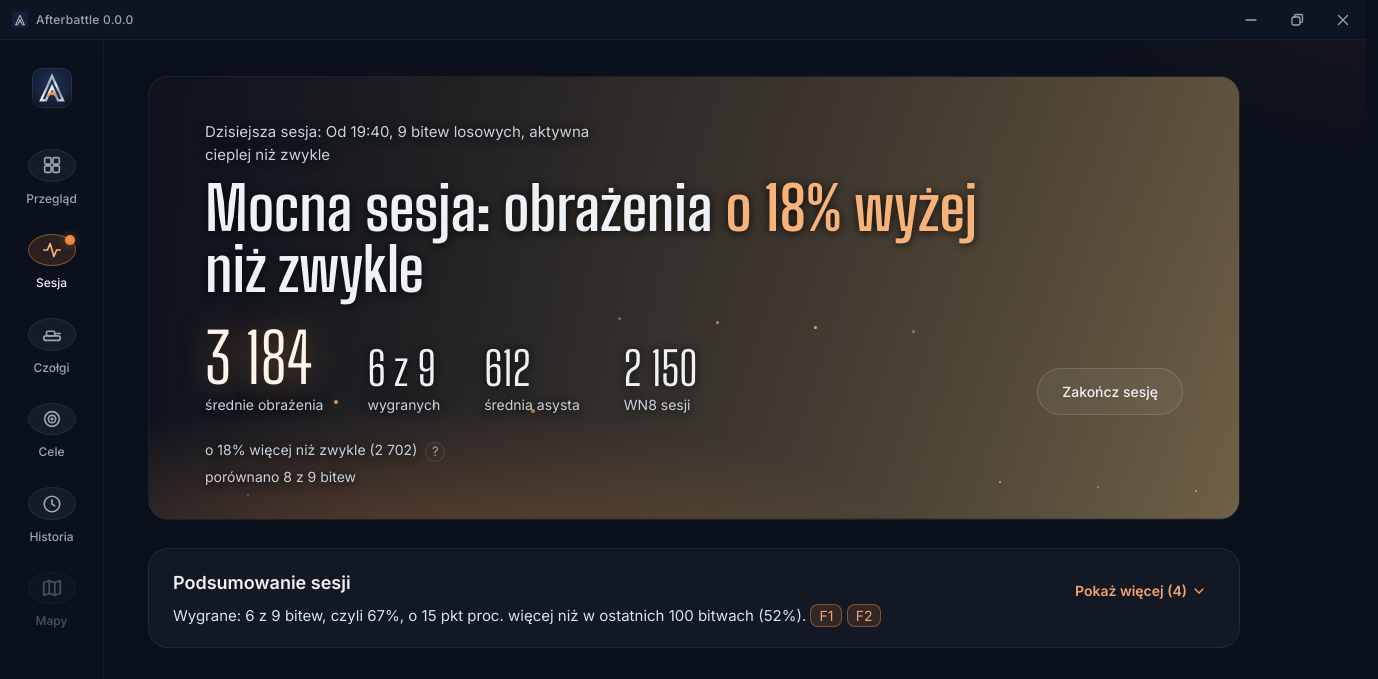
Tanks screen › reads the damage chart from the trend's own battles, by keyboard
This screenshot has width=1378, height=679.
Click the button "Czołgi": (52, 348) [20,317,84,378]
(page scrolled)
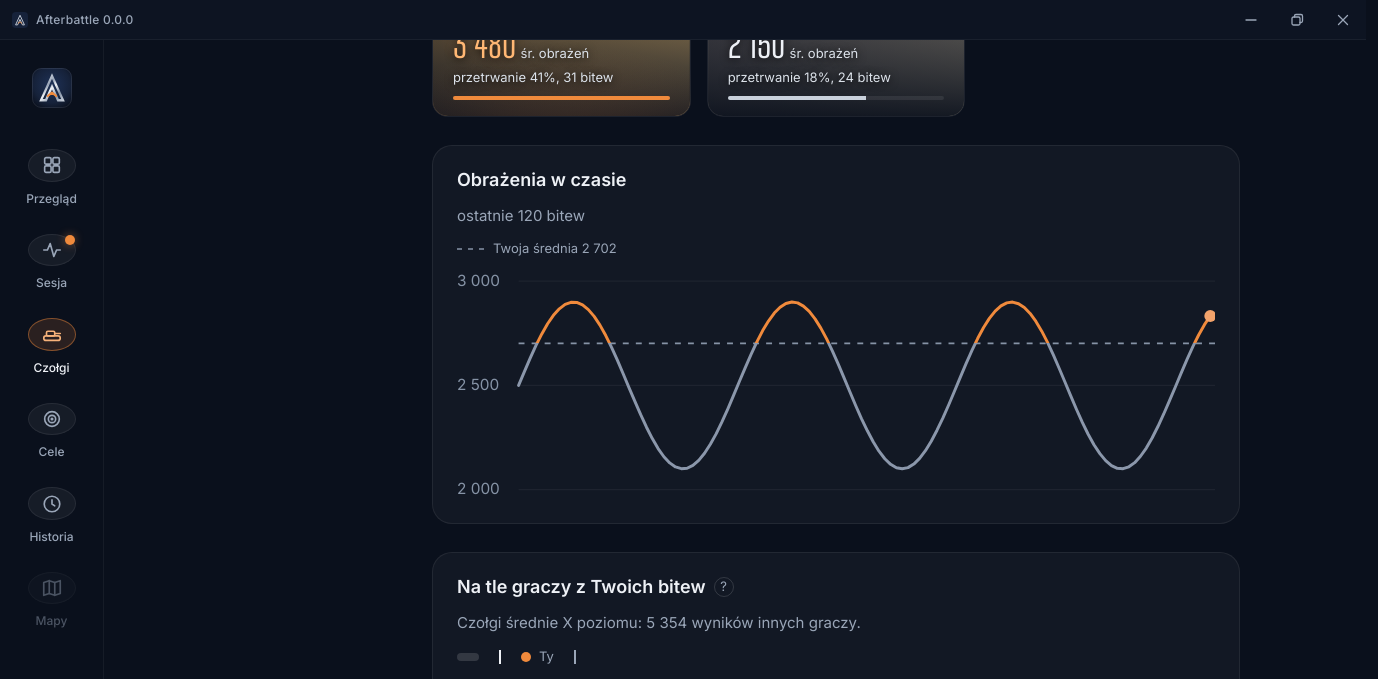
Press End in the element with class "chart-plot", box [457,266,1215,503]
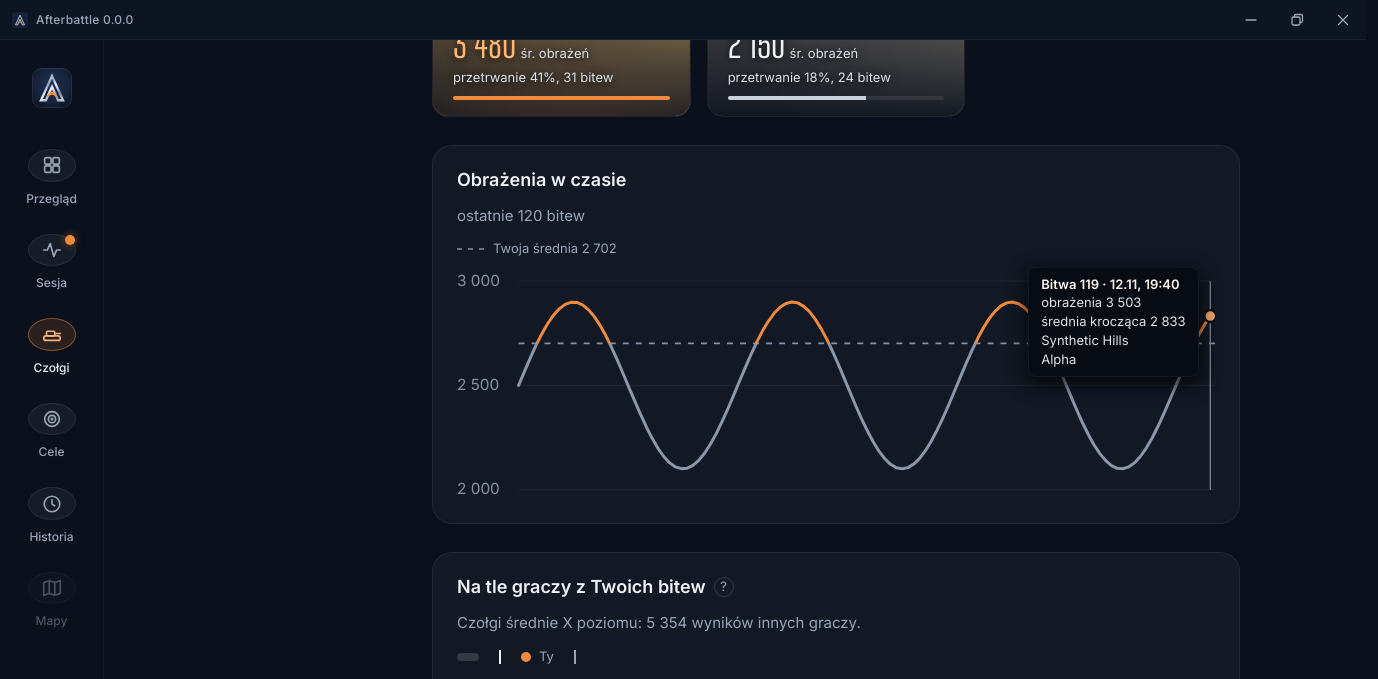
Expected: the element with class "chart-tip" is shown, [1028,266,1199,377]
Press Escape in the element with class "chart-plot", box [457,266,1215,503]
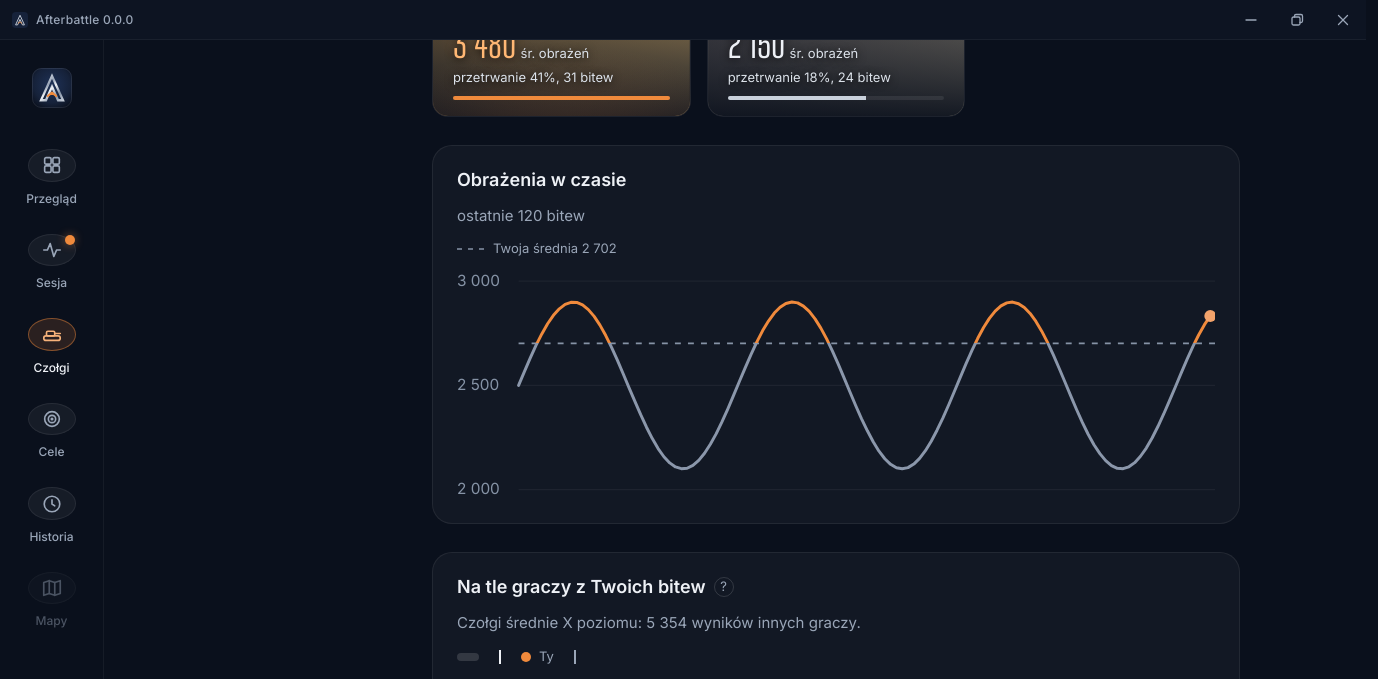
Expected: the element with class "chart-tip" is gone
